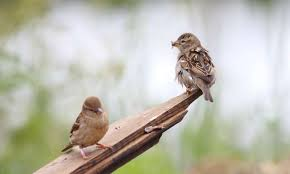hsparrow: (161, 28, 227, 104), (59, 95, 117, 164)
